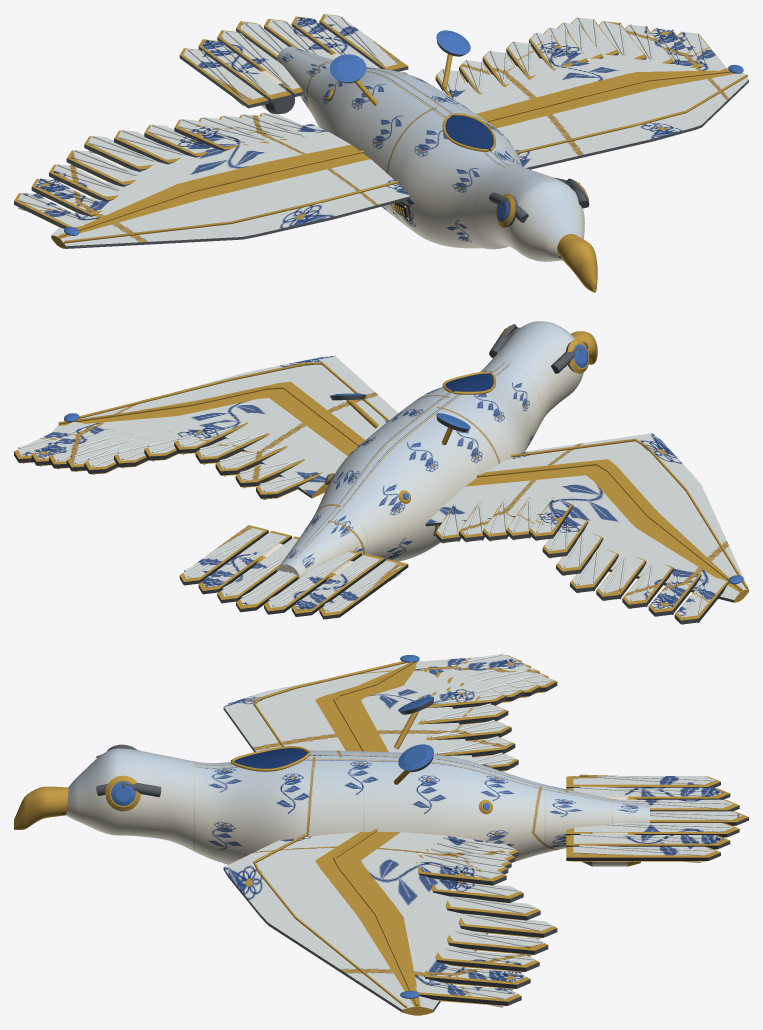
3 views of the same model, one above another, from view 1: azimuth 30°, elevation 25°; view 2: azimuth 150°, elevation 25°; view 3: azimuth 270°, elevation 25° (orthographic). The views are drawn at different scales.
Parts seen in each view (by area): view 1: osprey_hull; view 2: osprey_hull; view 3: osprey_hull.
Part boxes in pixels (x1,y1,x2,y2): osprey_hull: (14,14,748,292); osprey_hull: (14,321,748,624); osprey_hull: (14,653,748,1015).
Size of the model in its own units: 68 by 14.37 by 60.96.
1 material, 1 textured.
